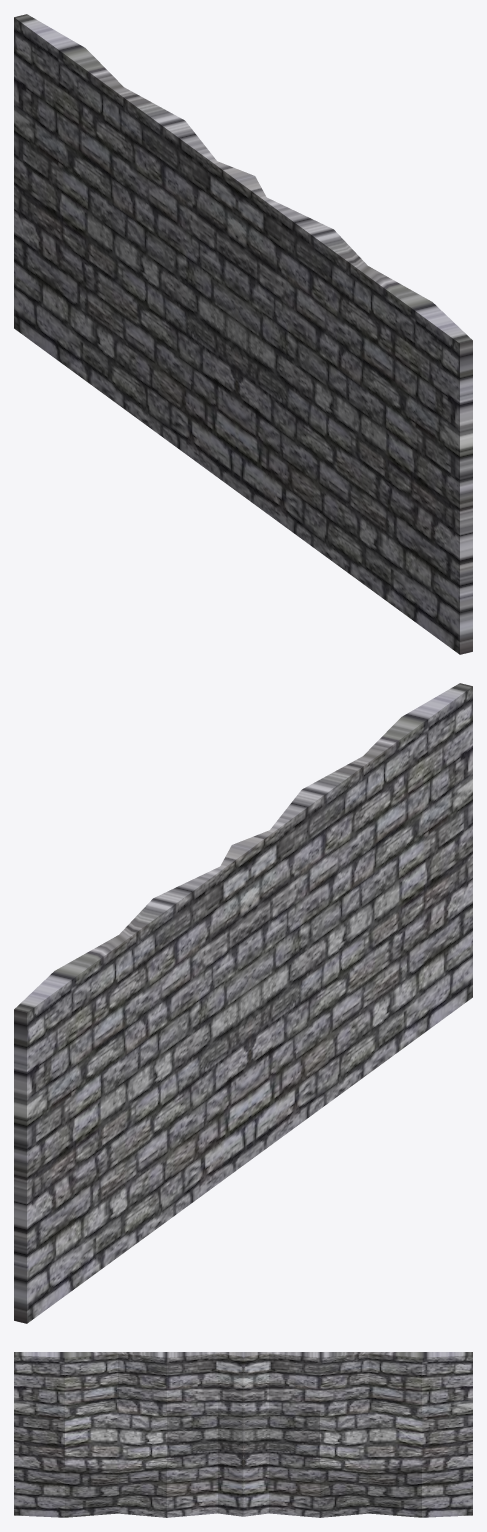
The model's file is Wall1.fbx.
3 views of the same model, one above another, from view 1: azimuth 30°, elevation 25°; view 2: azimuth 150°, elevation 25°; view 3: azimuth 270°, elevation 25° (orthographic). The views are drawn at different scales.
Parts seen in each view (by area): view 1: Plane; view 2: Plane; view 3: Plane.
Part boxes in pixels (left/top/right/bottom): Plane: left=14, top=14, right=472, bottom=654; Plane: left=14, top=683, right=472, bottom=1323; Plane: left=14, top=1352, right=472, bottom=1517.
Size of the model in its own units: 78.04 by 538 by 1391.
